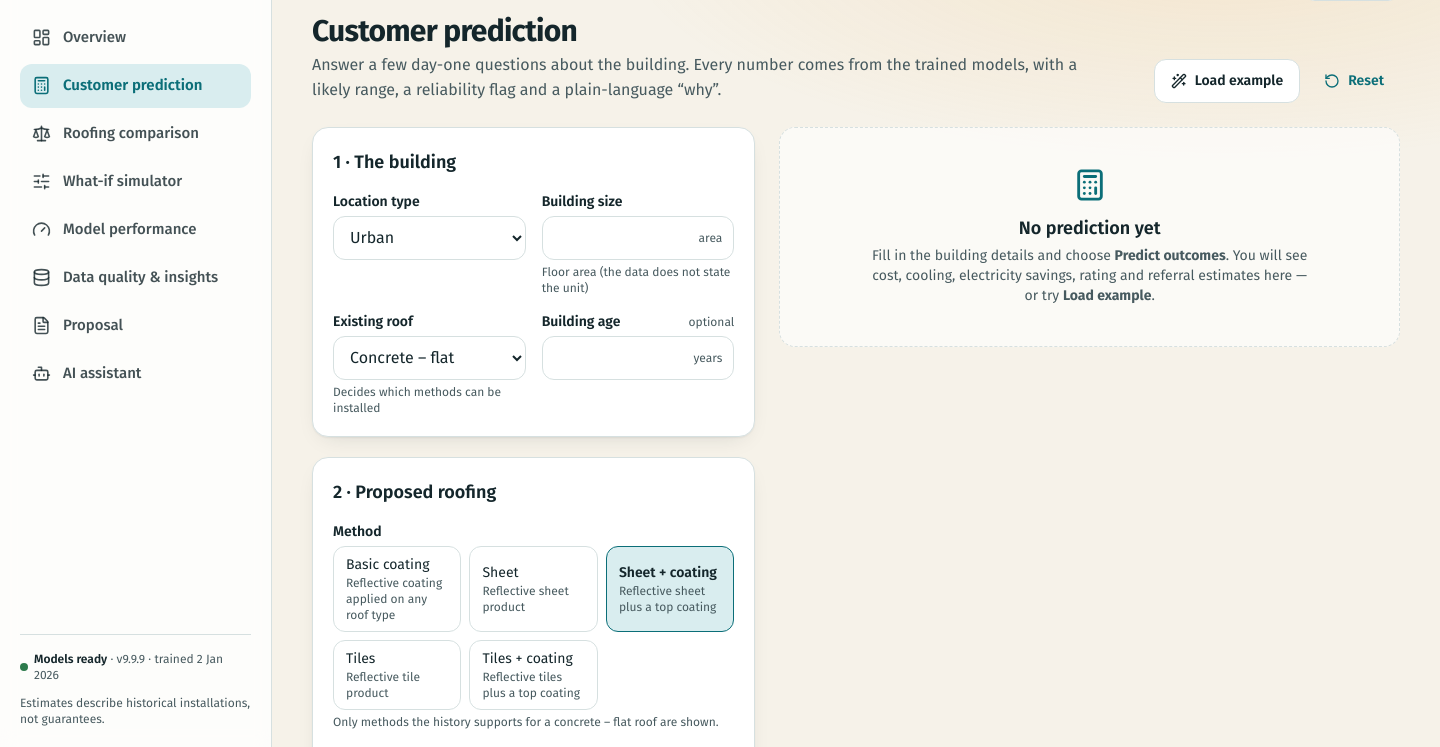
Test: accessibility (axe) › prediction form and results have no detectable violations
The width and height of the screenshot is (1440, 747).
Click the button "Load example". click: (1227, 81)
box: 1154,59 -> 1300,103
(page scrolled)
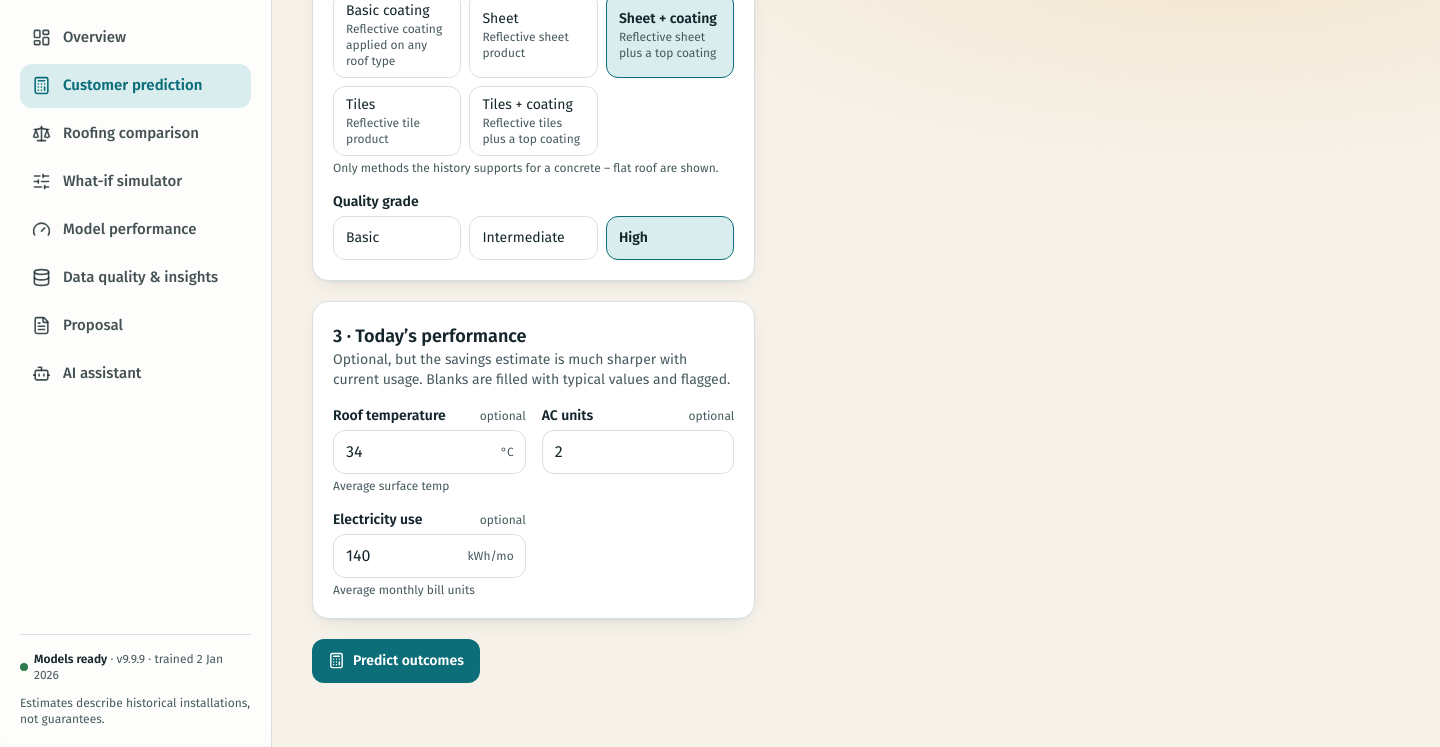
Click the button "Predict outcomes". click: (396, 661)
box: 312,639 -> 480,683
(page scrolled)
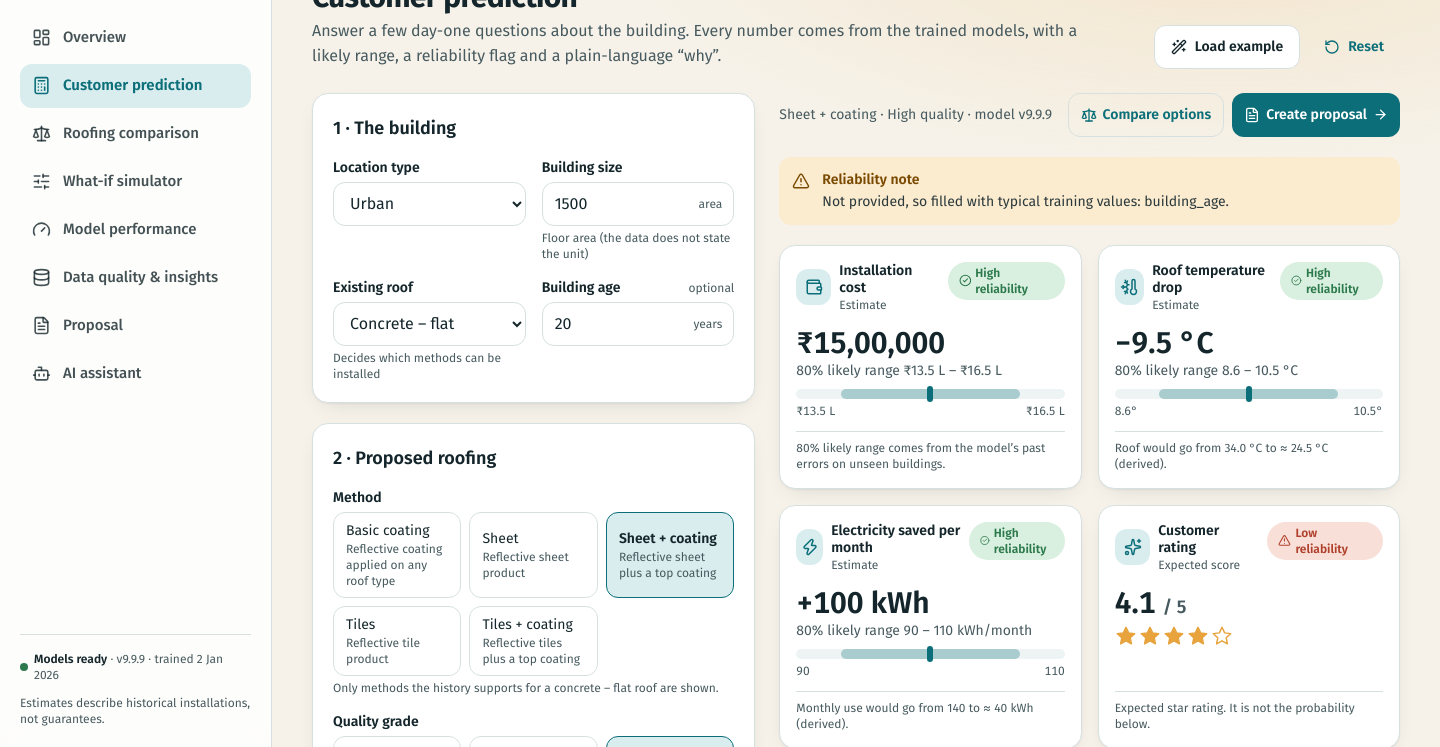
Now the text "₹15,00,000" is shown, box 796,325 -> 945,361
